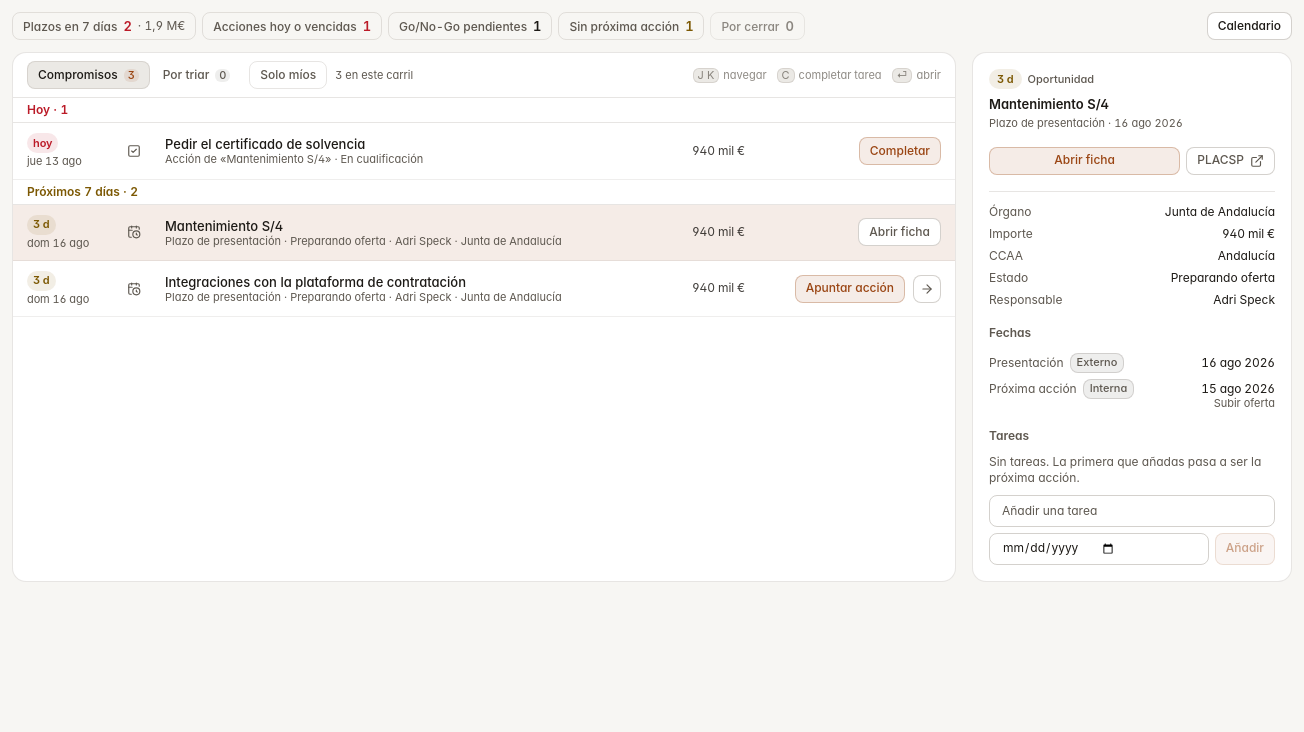
it: AgendaView — contadores que filtran › pulsar uno deja solo sus filas y lo escribe en la URL sin navegar
What coordinates should you click on to do the following:
click the button "Sin próxima acción 1"
I would click on:
 (631, 26)
Its box is [558,12,704,40].
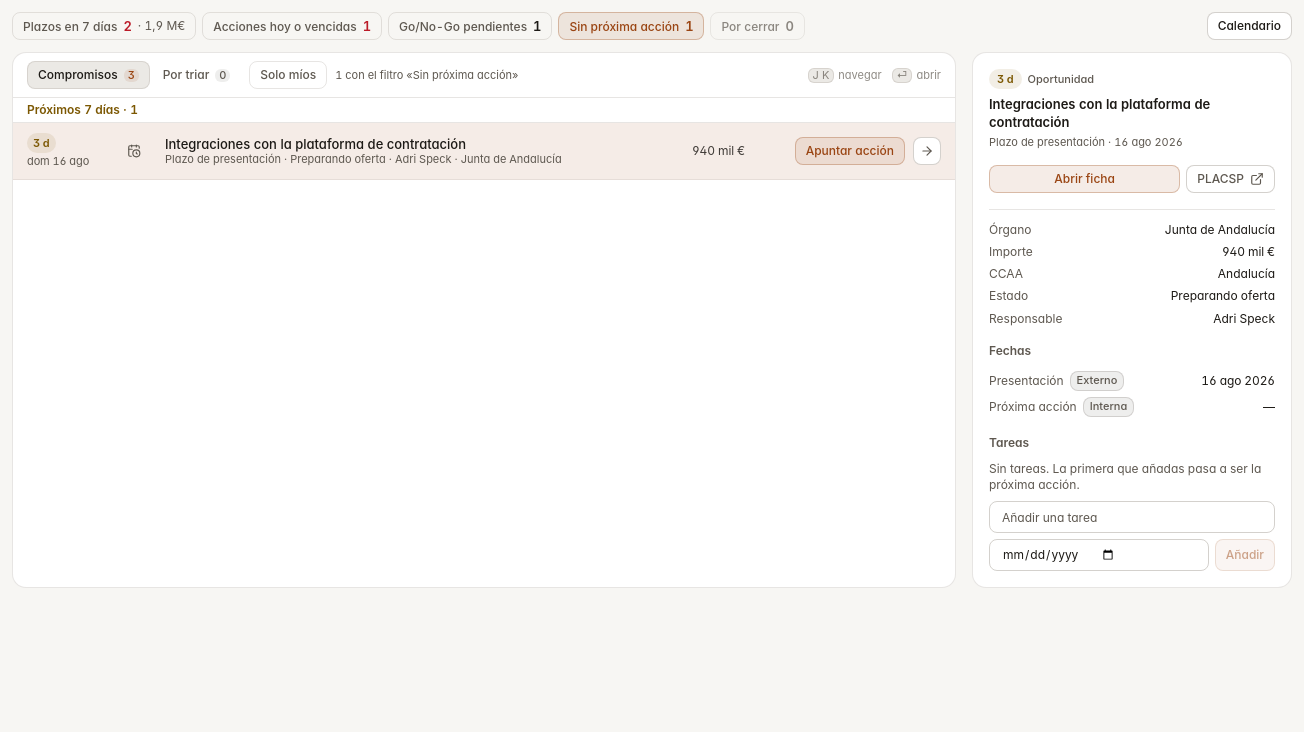
Expected: the text "Integraciones con la plataforma de contratación" is shown, [165,136,466,152]
Expected: the button "Mantenimiento S/4" is gone
Expected: the button "Pedir el certificado de solvencia" is gone
What coordinates should you click on to do the following:
click the button "Sin próxima acción 1"
I would click on:
 (631, 26)
Its box is [558,12,704,40].
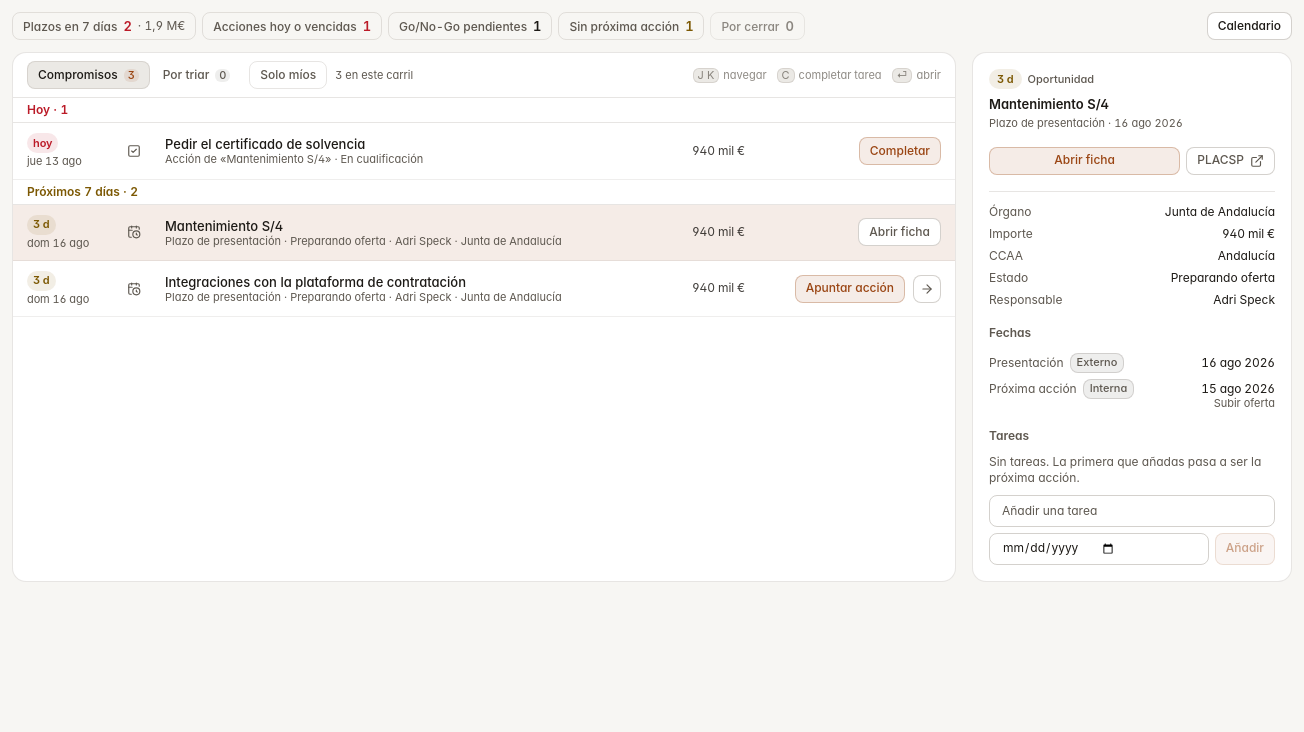
Expected: the text "Mantenimiento S/4" is shown, [165,218,283,234]
